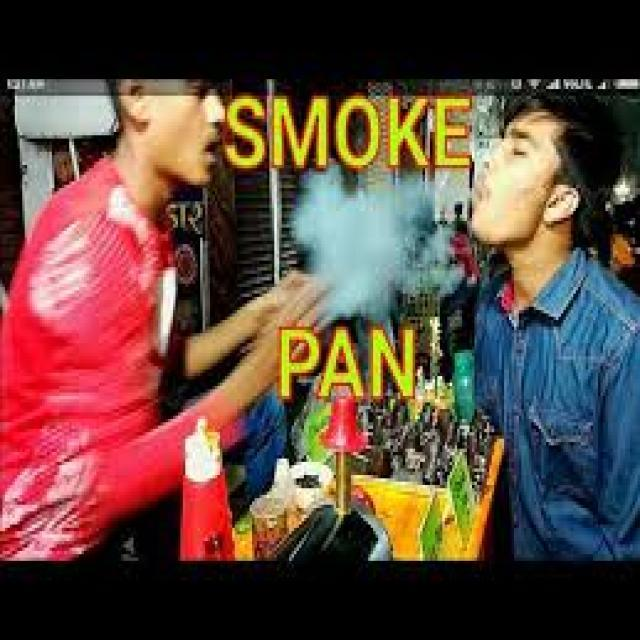Smoke: (289, 178, 418, 323)
